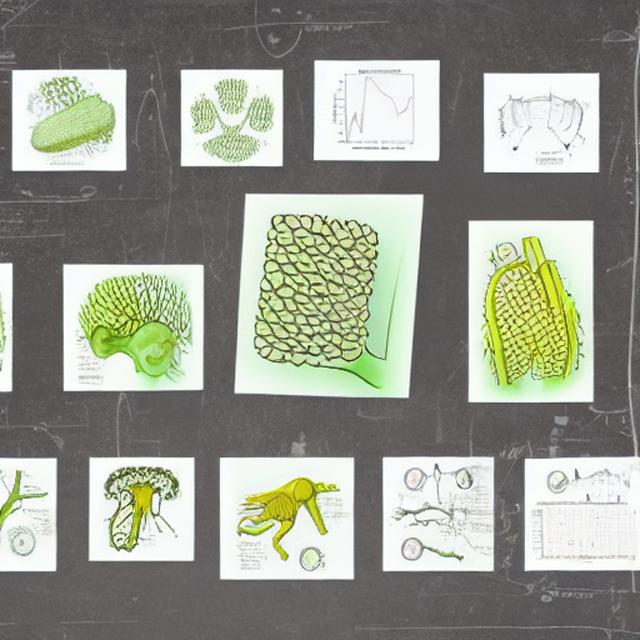Graph: (320, 64, 436, 151), (526, 501, 639, 566)
